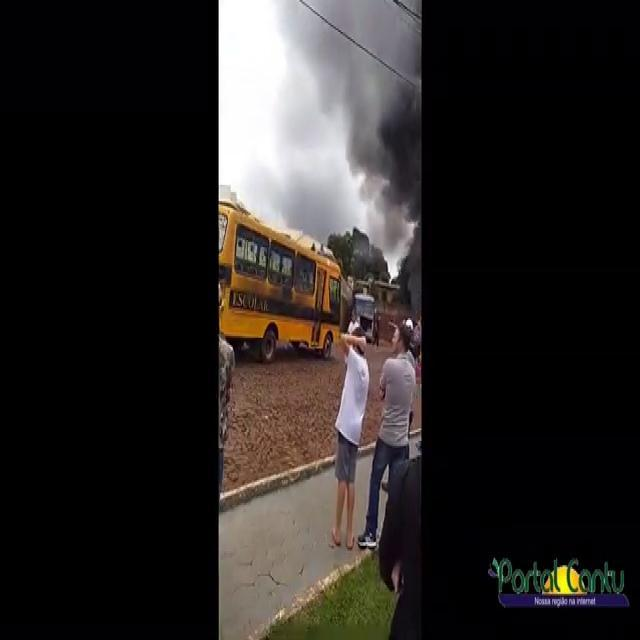Smoke: (340, 0, 423, 320)
